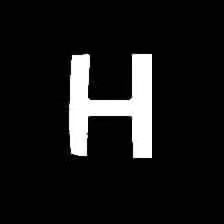LTR_H: (62, 46, 157, 164)
